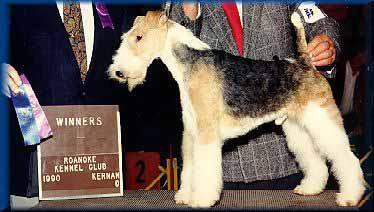wire-haired_fox_terrier: (107, 9, 373, 211)
